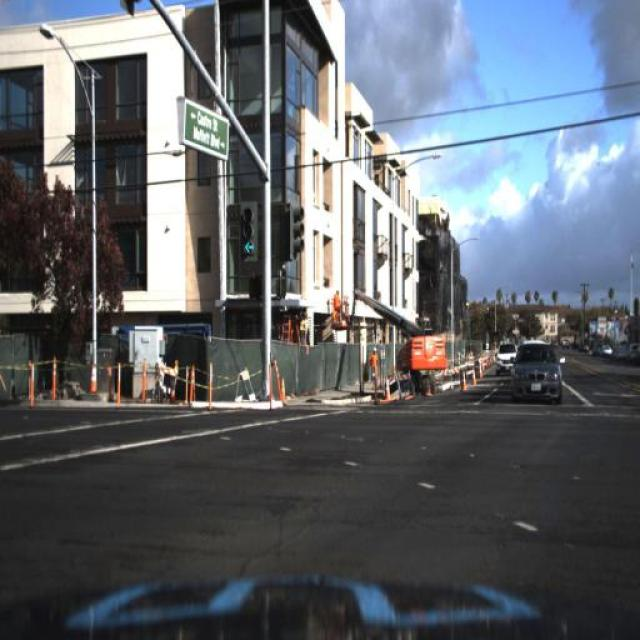trafficLight: (328, 274, 348, 334), (368, 342, 379, 393), (369, 344, 382, 384), (332, 287, 346, 318)
trafficLight-Red: (236, 200, 260, 276), (241, 203, 254, 264)
